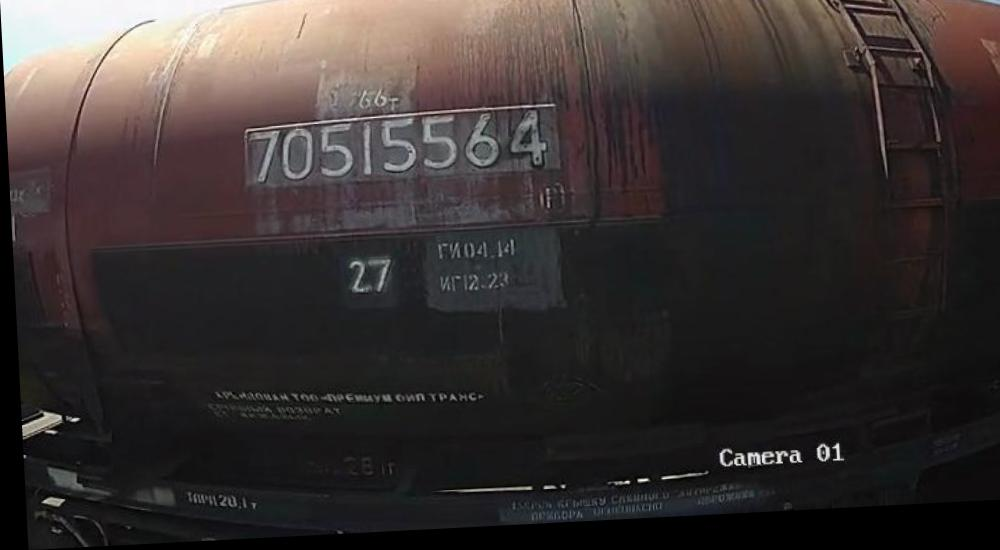Wagon-number: (242, 111, 549, 186)
